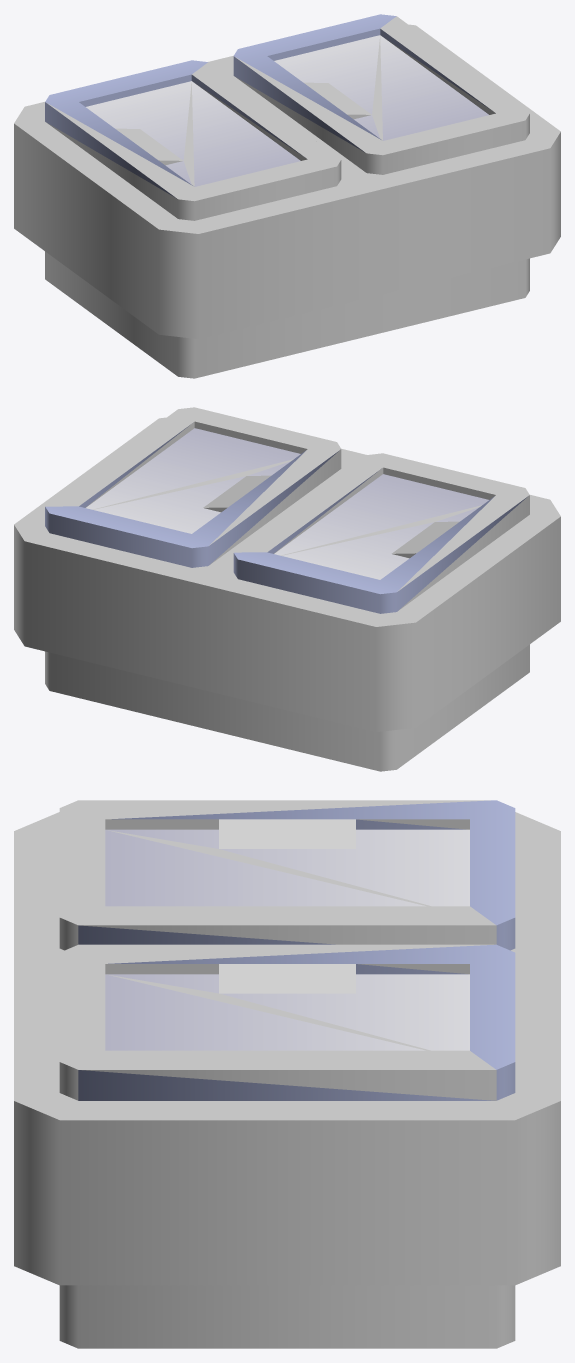
Rendered from freezer-finished.glb.
The picture shows the model from 3 angles, top to bottom: view 1: azimuth 30°, elevation 25°; view 2: azimuth 150°, elevation 25°; view 3: azimuth 270°, elevation 25°; orthographic projection. The views are drawn at different scales.
Visible parts, largest first — view 1: freezer; view 2: freezer; view 3: freezer.
Boxes of the visible parts, <box> form: freezer: <box>14,14,560,378</box>; freezer: <box>14,407,560,771</box>; freezer: <box>14,800,560,1348</box>.
Size of the model in its own units: 0.8 by 0.3375 by 0.6.
Materials: 2 (1 with a texture image).
